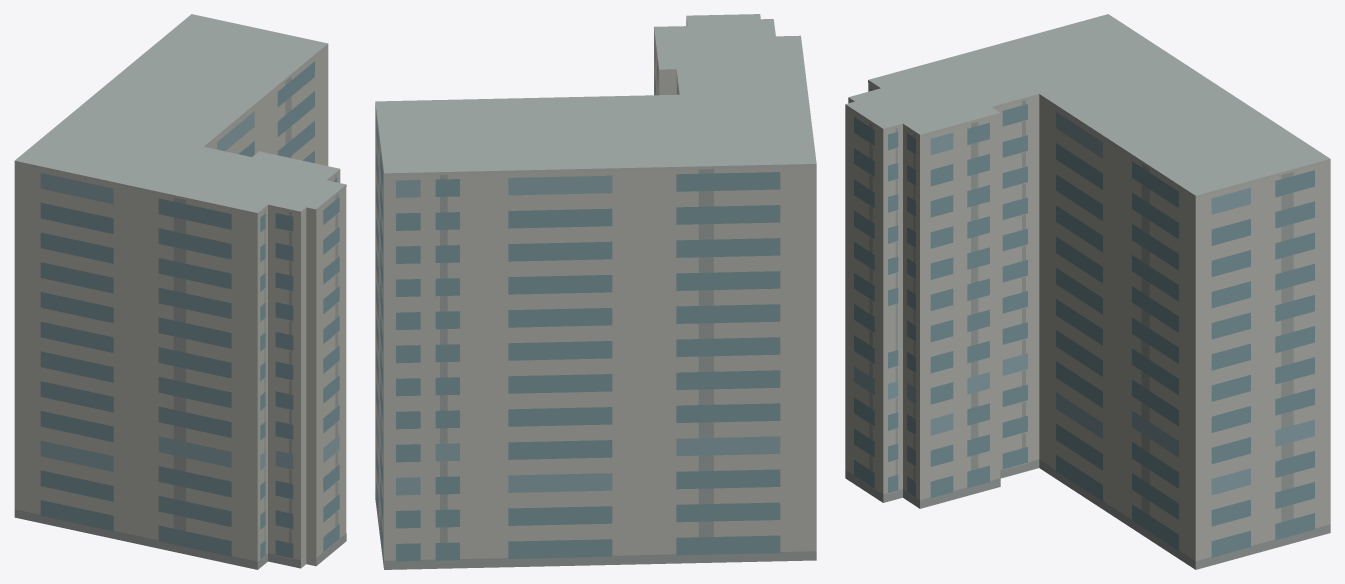
The model's file is residential-281d6d69-faf4-4752-821f-7a2dfcb909b1.glb.
The picture shows the model from 3 angles, left to right: view 1: azimuth 30°, elevation 25°; view 2: azimuth 150°, elevation 25°; view 3: azimuth 270°, elevation 25°; orthographic projection. The views are drawn at different scales.
Parts seen in each view (by area): view 1: residential-281d6d69-faf4-4752-821f-7a2dfcb909b1.tmp; view 2: residential-281d6d69-faf4-4752-821f-7a2dfcb909b1.tmp; view 3: residential-281d6d69-faf4-4752-821f-7a2dfcb909b1.tmp.
Part boxes in pixels (x1=…): residential-281d6d69-faf4-4752-821f-7a2dfcb909b1.tmp: x1=14, y1=14, x2=346, y2=569; residential-281d6d69-faf4-4752-821f-7a2dfcb909b1.tmp: x1=375, y1=14, x2=816, y2=569; residential-281d6d69-faf4-4752-821f-7a2dfcb909b1.tmp: x1=845, y1=14, x2=1330, y2=569.
Size of the model in its own units: 35.45 by 34 by 39.98.
